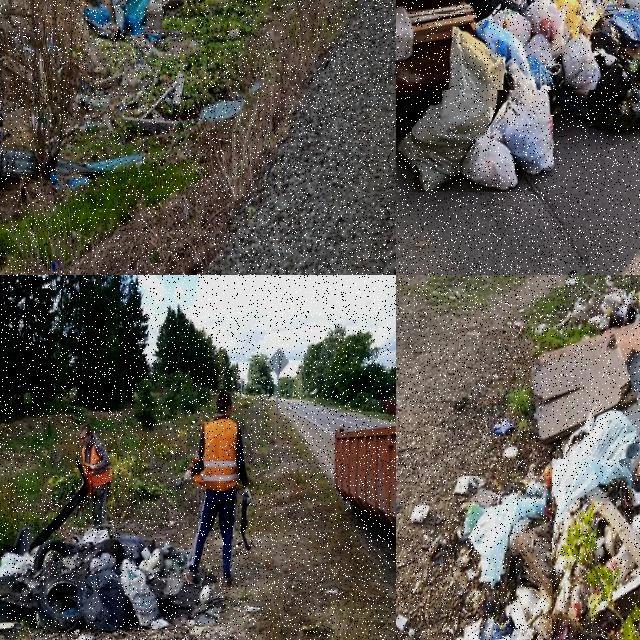lixeira: (412, 0, 639, 194), (396, 0, 639, 92), (0, 530, 216, 631), (455, 477, 558, 639), (552, 459, 639, 639), (528, 317, 639, 446), (565, 275, 639, 461), (0, 145, 144, 174), (84, 0, 164, 35), (78, 96, 115, 135), (201, 101, 244, 119), (52, 176, 88, 189)
